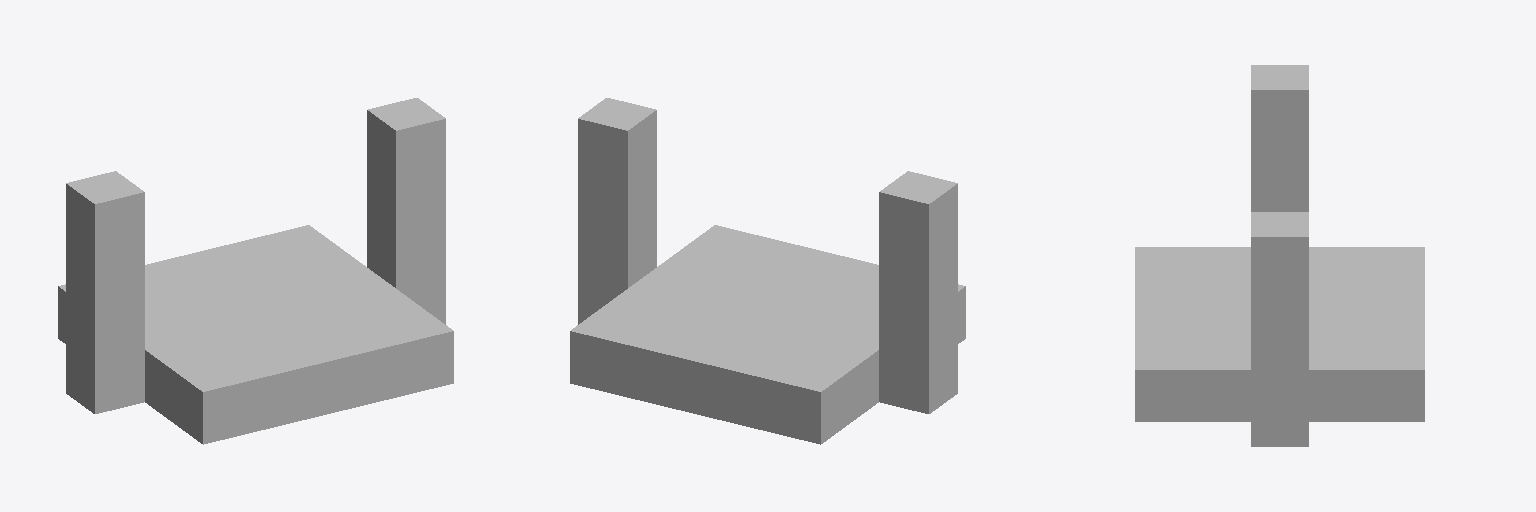
File: lift.obj
3 views of the same model, side by side, from view 1: azimuth 30°, elevation 25°; view 2: azimuth 150°, elevation 25°; view 3: azimuth 270°, elevation 25° (orthographic).
Visible parts, largest first — view 1: base, railAttatchment1, railAttatchment2; view 2: base, railAttatchment1, railAttatchment2; view 3: base, railAttatchment2, railAttatchment1.
Part boxes in pixels (x1,y1,x2,y2): base: (58, 225, 453, 444); railAttatchment1: (66, 171, 144, 413); railAttatchment2: (367, 98, 445, 324); base: (570, 225, 965, 444); railAttatchment1: (879, 171, 957, 413); railAttatchment2: (578, 98, 656, 324); base: (1135, 247, 1424, 421); railAttatchment2: (1251, 212, 1308, 446); railAttatchment1: (1251, 65, 1308, 211).
Bounding box in the file's own units: 3.5 × 2 × 2.5.